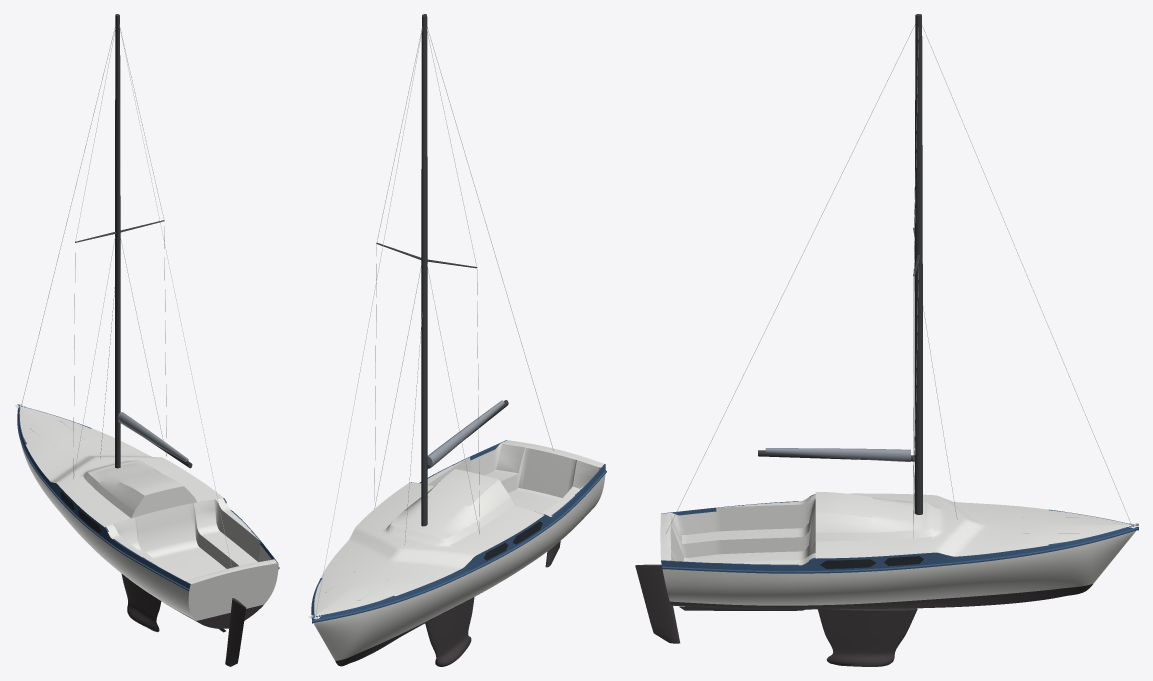
Rendered from maxi77-exterior.glb.
3 views of the same model, side by side, from view 1: azimuth 30°, elevation 25°; view 2: azimuth 150°, elevation 25°; view 3: azimuth 270°, elevation 25° (orthographic). The views are drawn at different scales.
Visible parts, largest first — view 1: deck_forward, deck_aft, hull, mast, rigging, keel, rudder, sailcover, rubrail; view 2: deck_forward, hull, deck_aft, mast, rigging, keel, rubrail, sailcover, windows; view 3: hull, deck_forward, deck_aft, keel, mast, rudder, rigging, rubrail, sailcover, windows.
Part boxes in pixels (x1,y1,x2,y2): deck_forward: (15,403,223,537); deck_aft: (104,498,278,589); hull: (21,443,278,628); mast: (115,14,120,468); rigging: (21,24,232,568); keel: (121,573,161,632); rudder: (225,598,245,666); sailcover: (117,412,188,461); rubrail: (17,408,279,590); deck_forward: (308,469,545,620); hull: (313,474,605,666); deck_aft: (411,440,605,527); mast: (421,14,427,526); rigging: (315,27,553,615); keel: (425,597,474,666); rubrail: (311,470,606,623); sailcover: (427,400,504,468); windows: (484,521,542,560); hull: (662,530,1135,609); deck_forward: (815,492,1138,570); deck_aft: (660,494,815,571); keel: (818,608,917,666); mast: (914,14,922,514); rudder: (635,564,680,643); rigging: (666,24,1131,537); rubrail: (662,527,1138,573); sailcover: (765,448,910,461); windows: (820,556,923,568).
Bounding box in the file's own units: 2.51 × 11.47 × 8.04.
